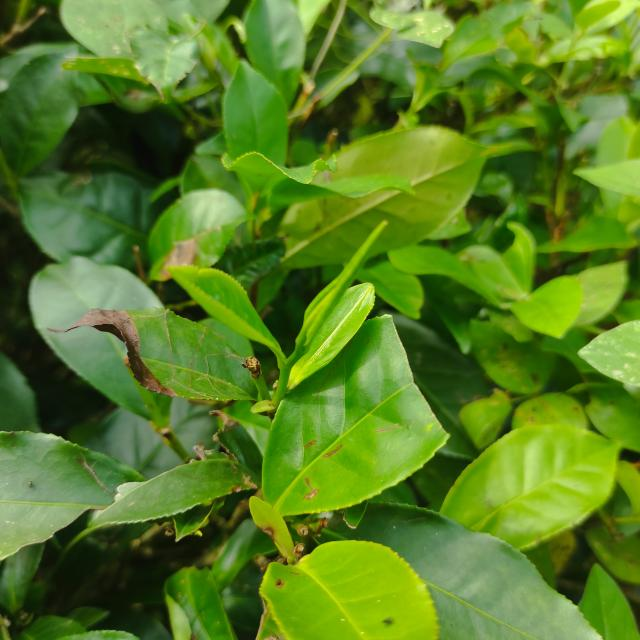unopened_leaf: (284, 210, 400, 372)
